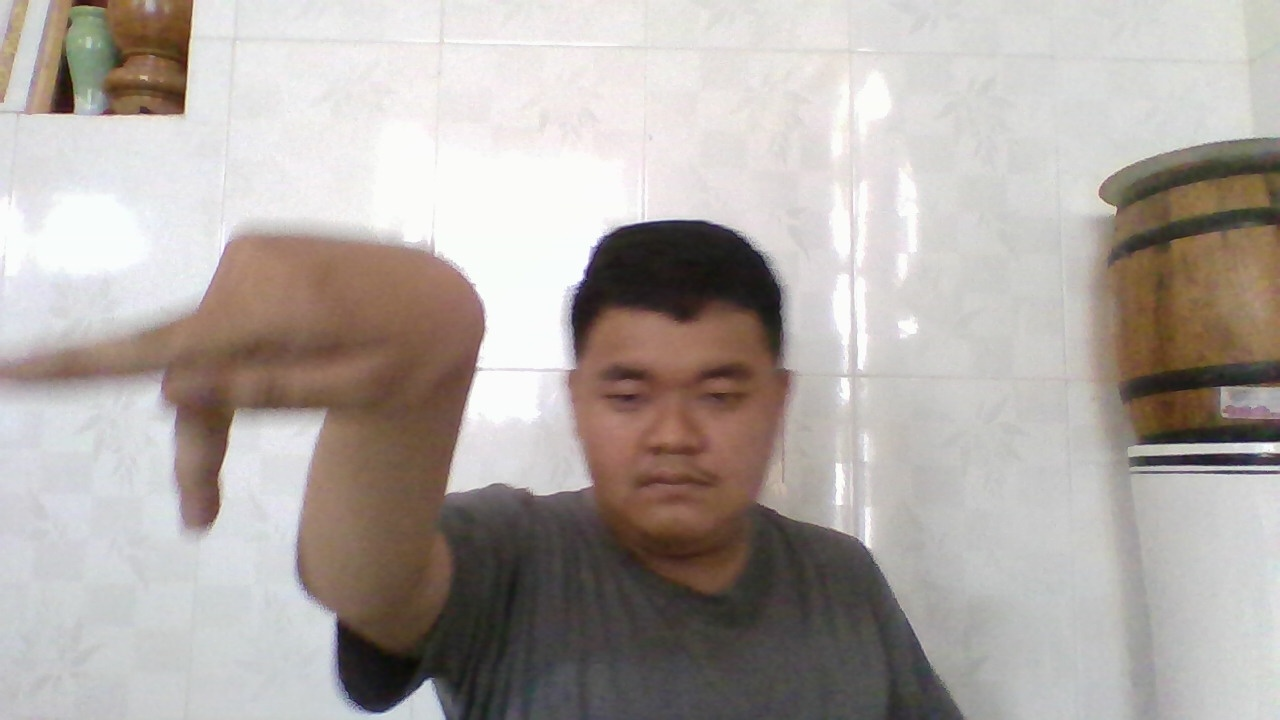P: (0, 237, 457, 507)
